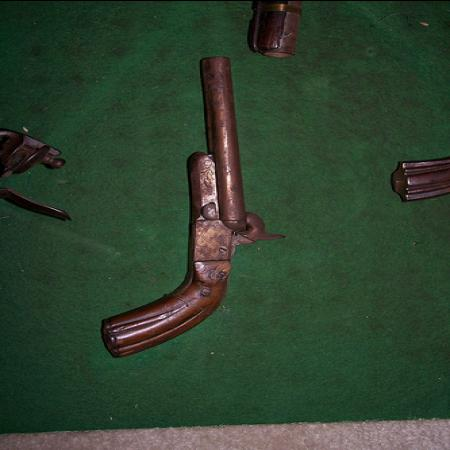Pistol: (102, 50, 288, 356)
